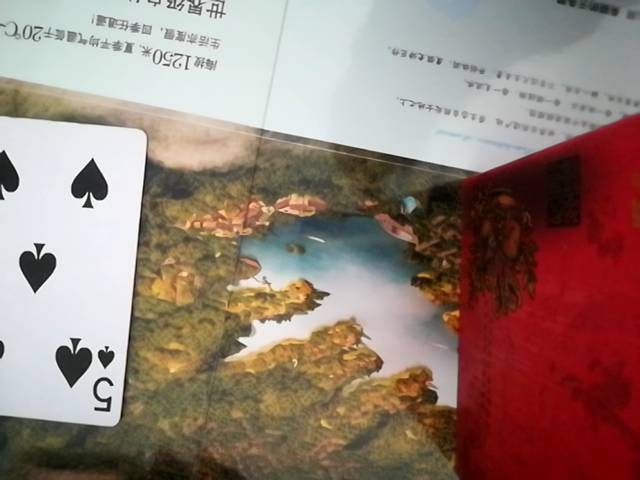ht 5: (0, 112, 150, 435)
